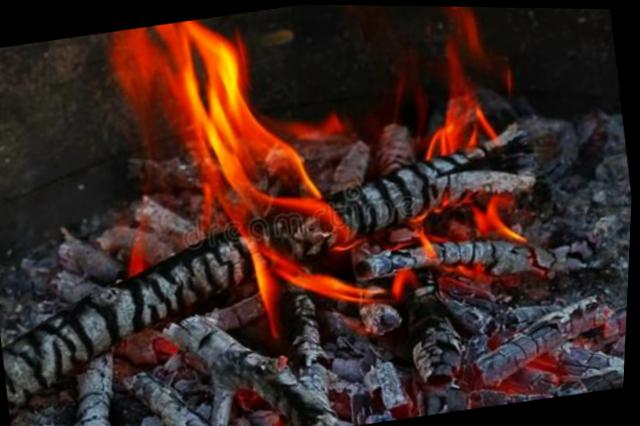fire: (105, 12, 251, 138), (176, 107, 308, 227), (427, 5, 488, 97), (243, 232, 292, 337), (284, 252, 371, 309), (302, 190, 358, 251), (438, 85, 491, 148), (290, 106, 346, 143), (118, 214, 152, 273), (468, 191, 505, 239), (389, 263, 420, 300), (421, 124, 450, 153)
